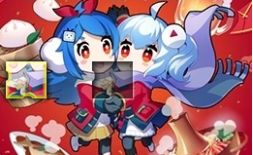gap: (92, 60, 132, 99)
